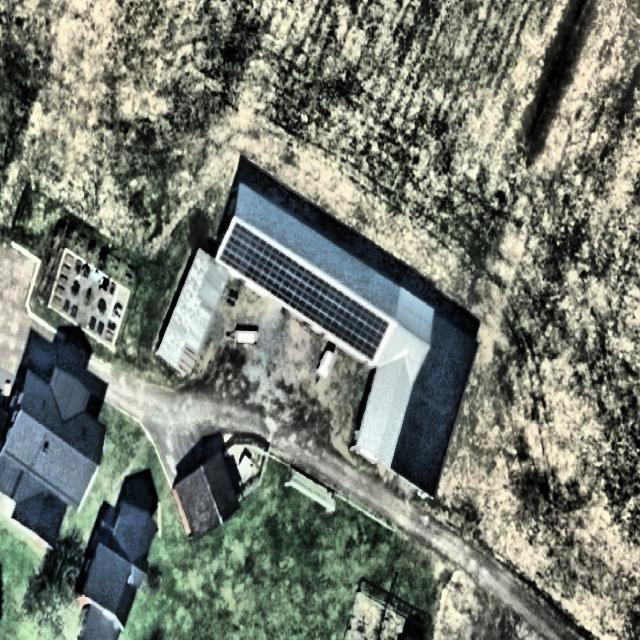roof_pv: (307, 292, 392, 363), (220, 221, 294, 284), (264, 268, 336, 312)
